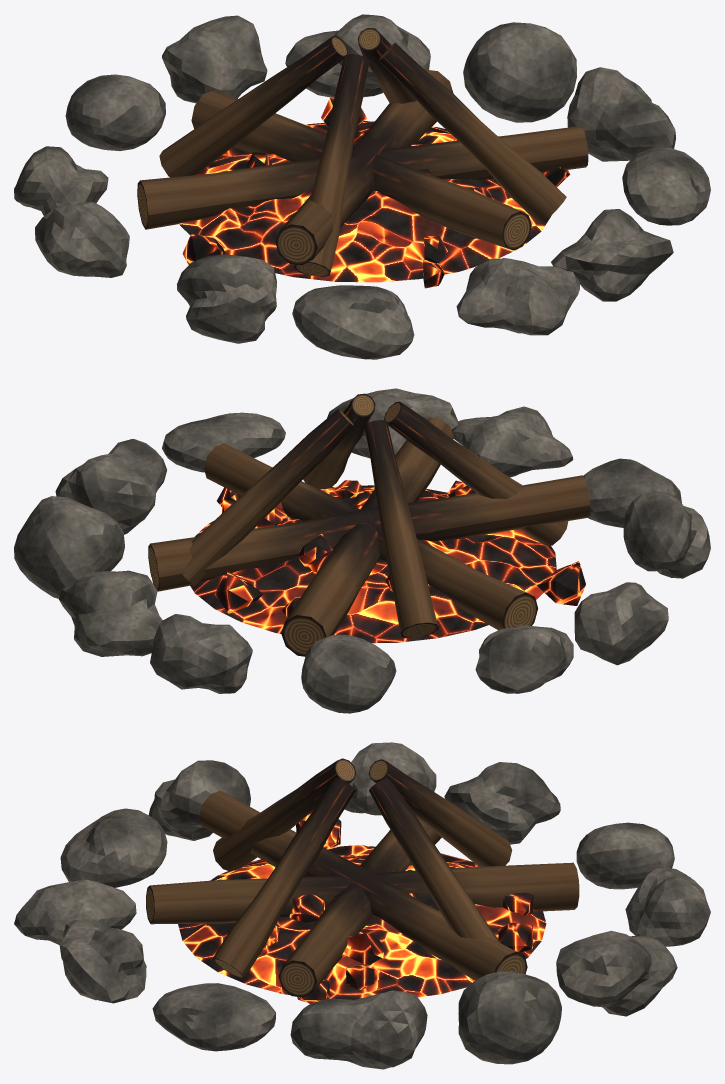
The model's file is campfire.glb.
3 views of the same model, one above another, from view 1: azimuth 30°, elevation 25°; view 2: azimuth 150°, elevation 25°; view 3: azimuth 270°, elevation 25° (orthographic). The views are drawn at different scales.
Bounding box in the file's own units: 7.15 × 2.14 × 7.38.
5 materials, 5 textured.
